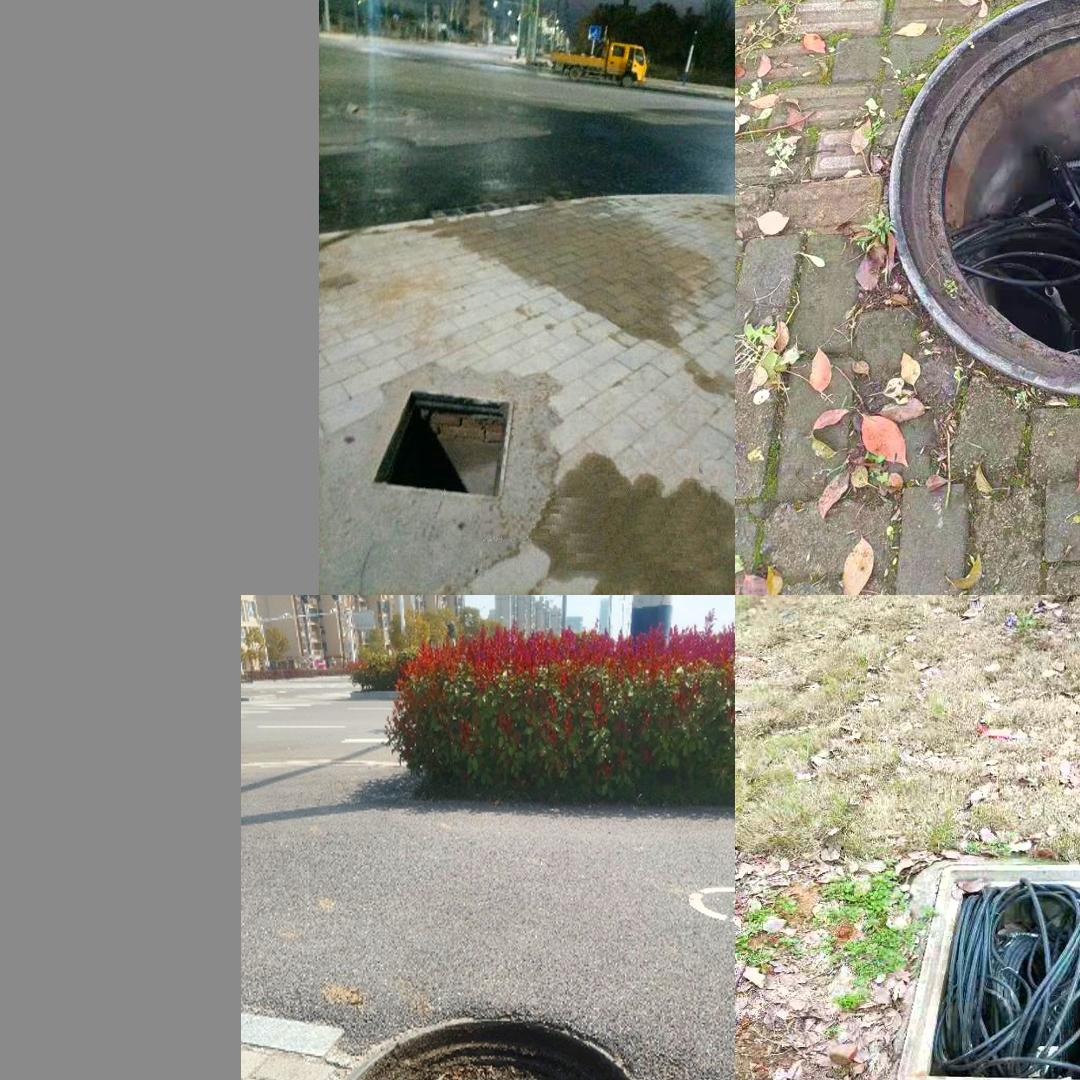lose: (893, 0, 1080, 398), (882, 841, 1080, 1080), (310, 1014, 671, 1080), (366, 385, 514, 503)
